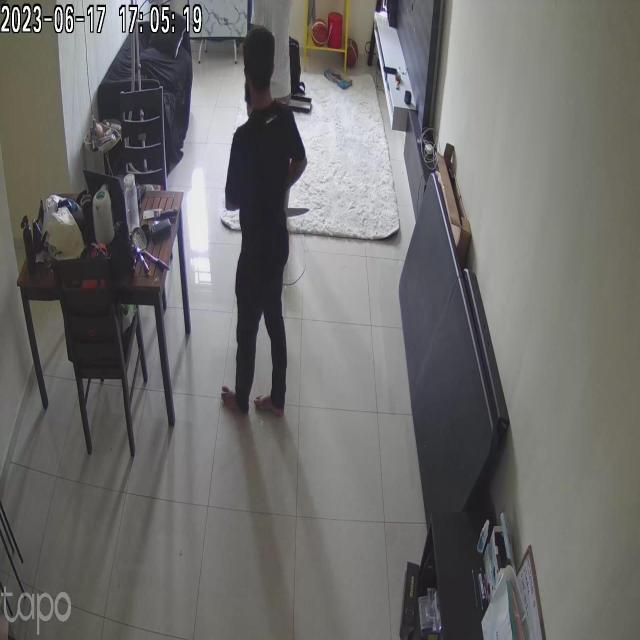Knife: (279, 202, 316, 226)
